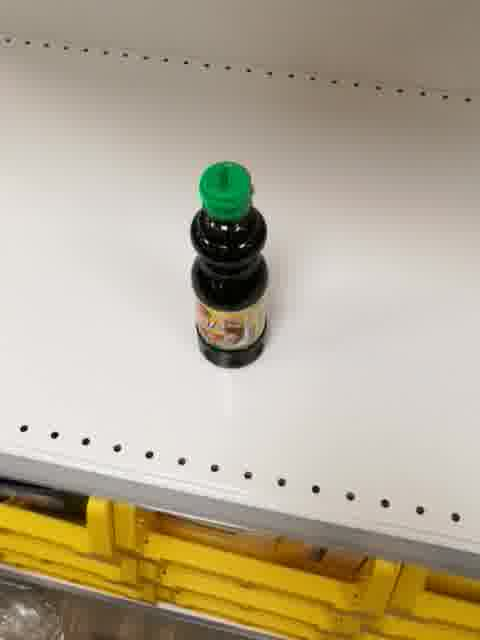cookingoil: (185, 158, 272, 372)
